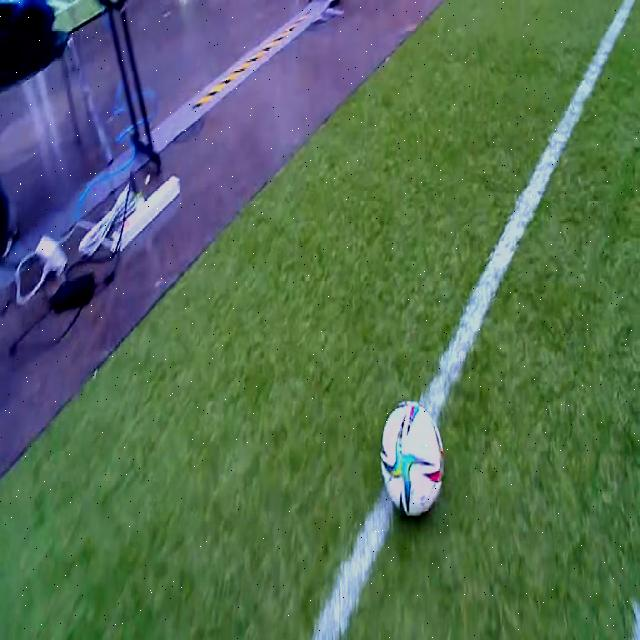ball: (381, 401, 444, 518)
